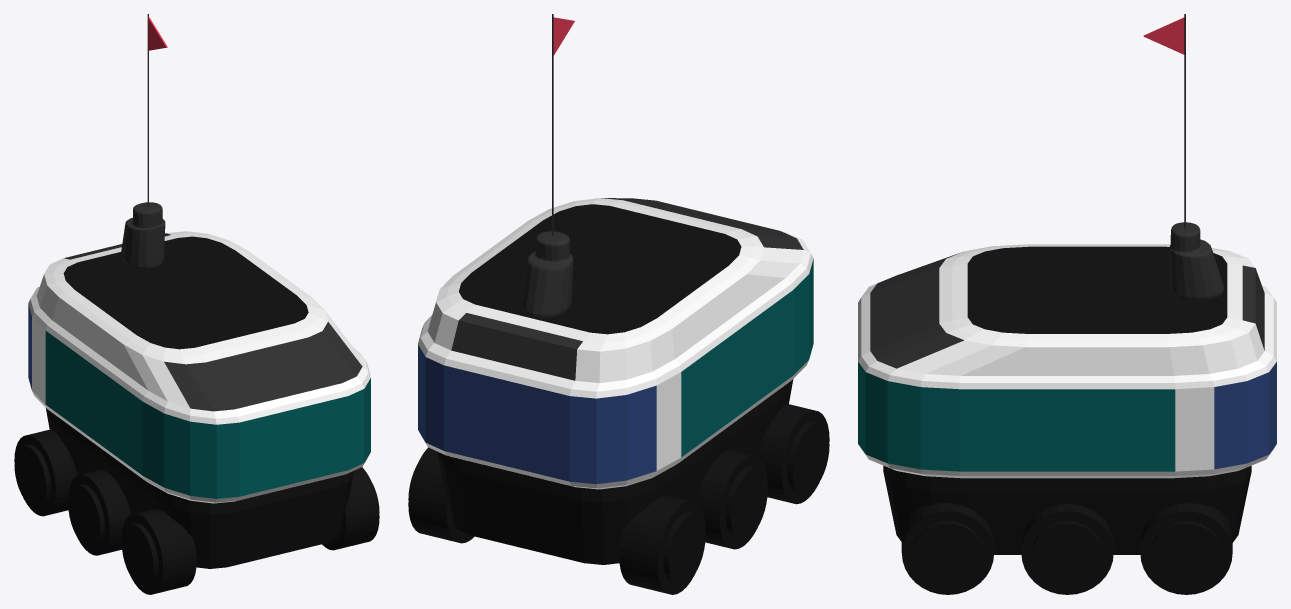
Rendered from robot (1).fbx.
The picture shows the model from 3 angles, left to right: view 1: azimuth 30°, elevation 25°; view 2: azimuth 150°, elevation 25°; view 3: azimuth 270°, elevation 25°; orthographic projection. The views are drawn at different scales.
Visible parts, largest first — view 1: Cube.070, Cylinder.005, Cylinder.006, Cylinder.004, Cube.076, Cylinder.009; view 2: Cube.070, Cylinder.006, Cylinder.005, Cylinder.004, Cube.076, Cylinder.007; view 3: Cube.070, Cylinder.009, Cylinder.007, Cylinder.008, Cube.076, Cube.078.
Boxes of the visible parts, x1,y1,x2,y2 form: Cube.070: (28, 231, 370, 568); Cylinder.005: (121, 509, 196, 594); Cylinder.006: (14, 429, 77, 516); Cylinder.004: (68, 469, 131, 555); Cube.076: (121, 202, 165, 269); Cylinder.009: (322, 467, 379, 550); Cube.070: (418, 198, 813, 564); Cylinder.006: (619, 495, 705, 594); Cylinder.005: (757, 404, 829, 504); Cylinder.004: (695, 450, 767, 549); Cube.076: (522, 231, 573, 317); Cylinder.007: (408, 447, 474, 543); Cube.070: (858, 244, 1276, 554); Cylinder.009: (901, 503, 994, 594); Cylinder.007: (1140, 503, 1232, 594); Cylinder.008: (1021, 504, 1113, 594); Cube.076: (1169, 222, 1223, 299); Cube.078: (1143, 17, 1184, 54).
Size of the model in its own units: 177 by 353 by 256.
